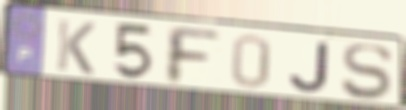0: (228, 33, 272, 92)
5: (111, 21, 157, 82)
F: (163, 23, 224, 87)
J: (286, 40, 333, 95)
K: (54, 17, 98, 77)
S: (339, 43, 396, 102)
